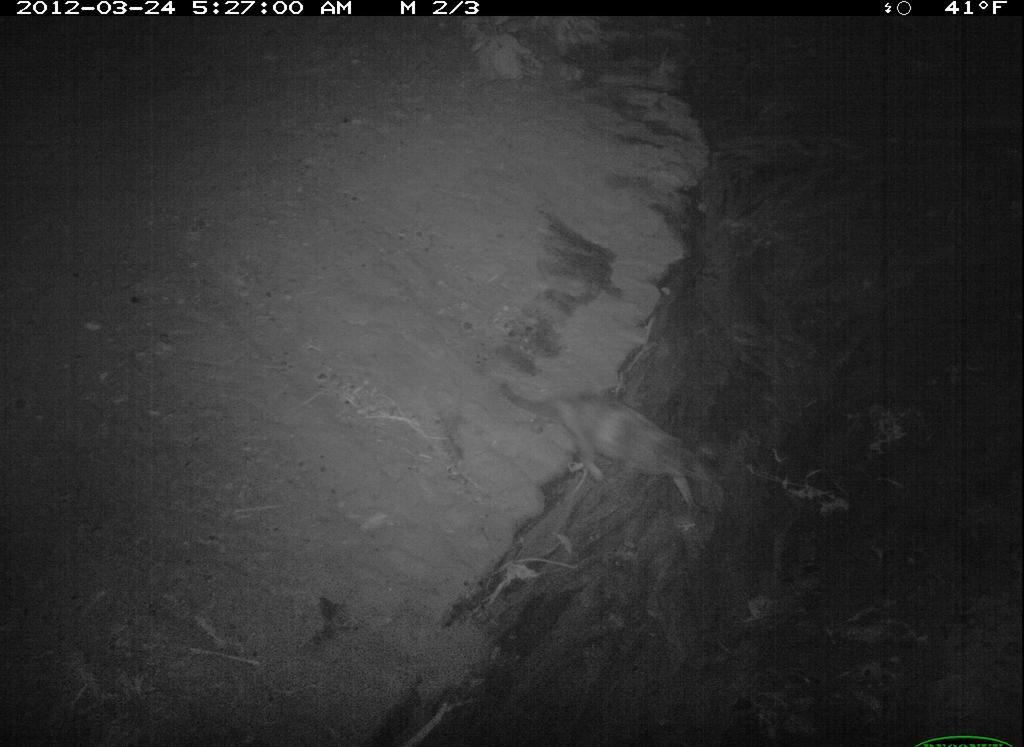cat: (491, 367, 739, 518)
